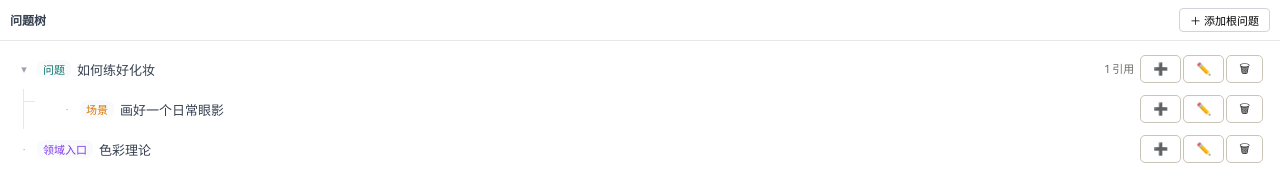
Test: KnowledgeTreeView 问题树 › 折叠/展开：默认整树可见，点三角折叠子节点，再点展开
Expected: the element with test id "node-2" is shown, [35,89,1272,129]
// 折叠节点 1 → 子节点 2 隐藏
Step 1. Click the text with test id "node-toggle-1" → click(24, 68), box [21,62,27,74]
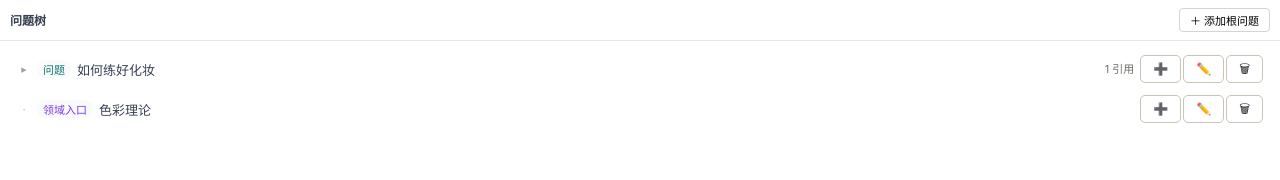
Result: the element with test id "node-2" is gone
// 再点展开 → 子节点 2 重新可见
Step 2. Click the text with test id "node-toggle-1" → click(24, 68), box [21,62,27,74]
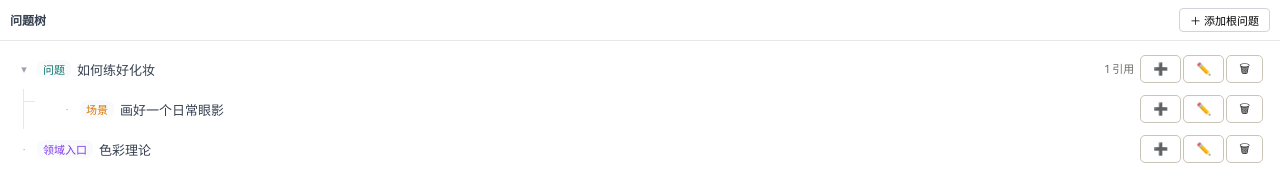
Result: the element with test id "node-2" is shown at [35,89,1272,129]
